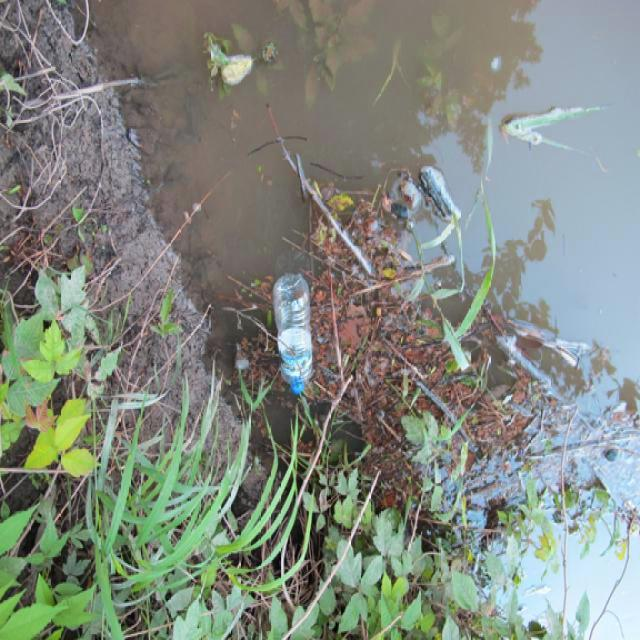Plastic: (269, 275, 315, 396)
